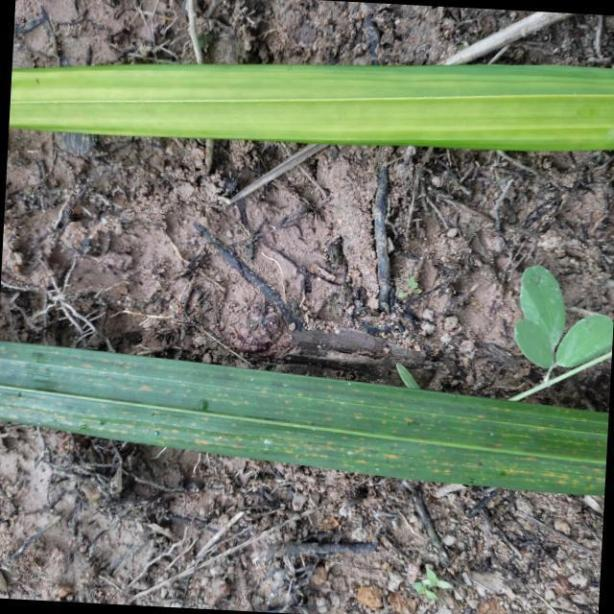nitrogen: (3, 337, 614, 495), (9, 62, 614, 151)
